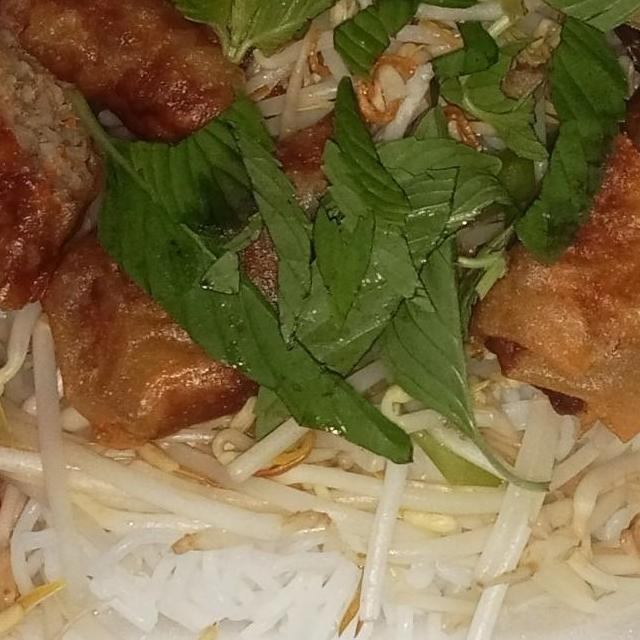bun: (0, 479, 480, 640)
cha gio: (28, 205, 304, 458), (460, 127, 640, 449), (11, 0, 256, 159), (0, 0, 110, 317)
